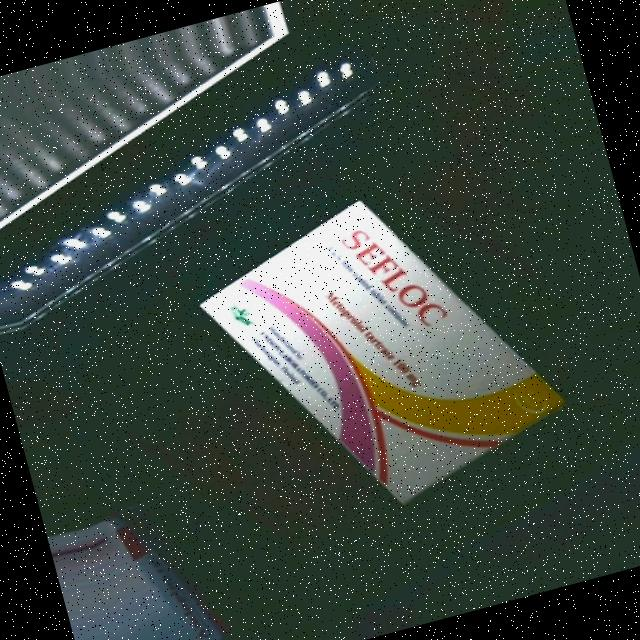sefloc: (199, 171, 563, 535)
